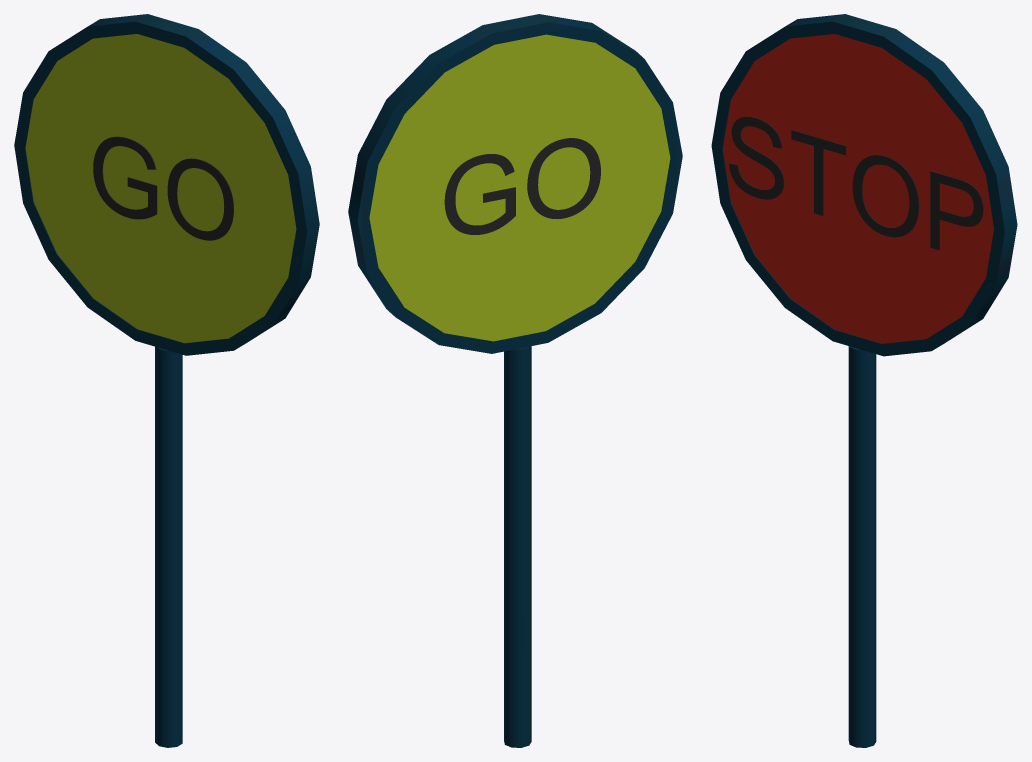
File: Indicator_Panel.FBX
3 renders of one model, left to right at view 1: azimuth 90°, elevation 25°; view 2: azimuth 150°, elevation 25°; view 3: azimuth 270°, elevation 25°, orthographic.
Parts seen in each view (by area): view 1: Indicator_Panel; view 2: Indicator_Panel; view 3: Indicator_Panel.
Part boxes in pixels (<box>): Indicator_Panel: <box>14,14,319,747</box>; Indicator_Panel: <box>348,14,682,747</box>; Indicator_Panel: <box>711,14,1017,747</box>.
Bounding box in the file's own units: 0.5092 × 1.8 × 0.6974.
